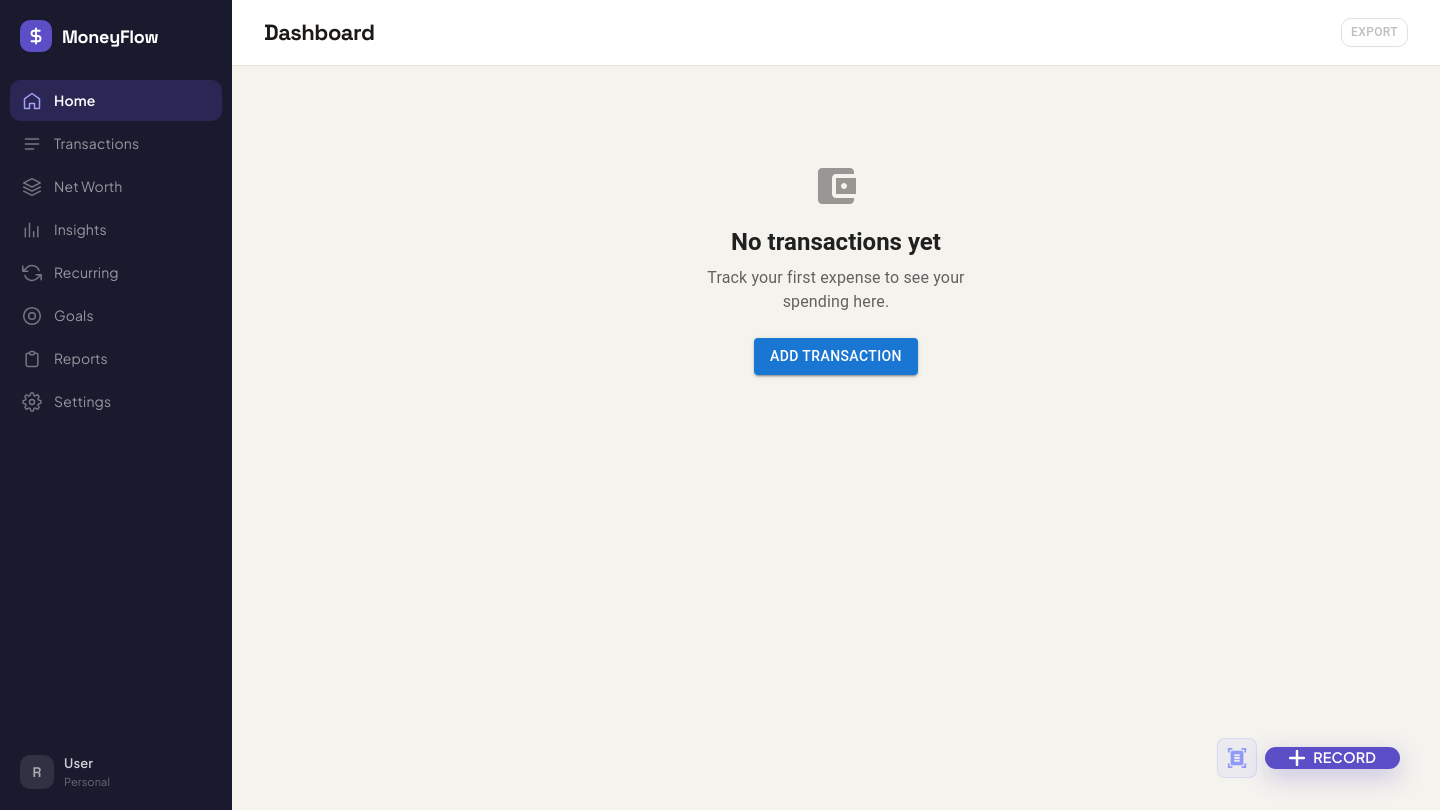
Empty state on Home tab › empty state button opens AddTransactionSheet
Expected: the heading "No transactions yet" is shown, [731,226,941,258]
Click the button "Add transaction" at [836, 356], box [754,338,918,374]
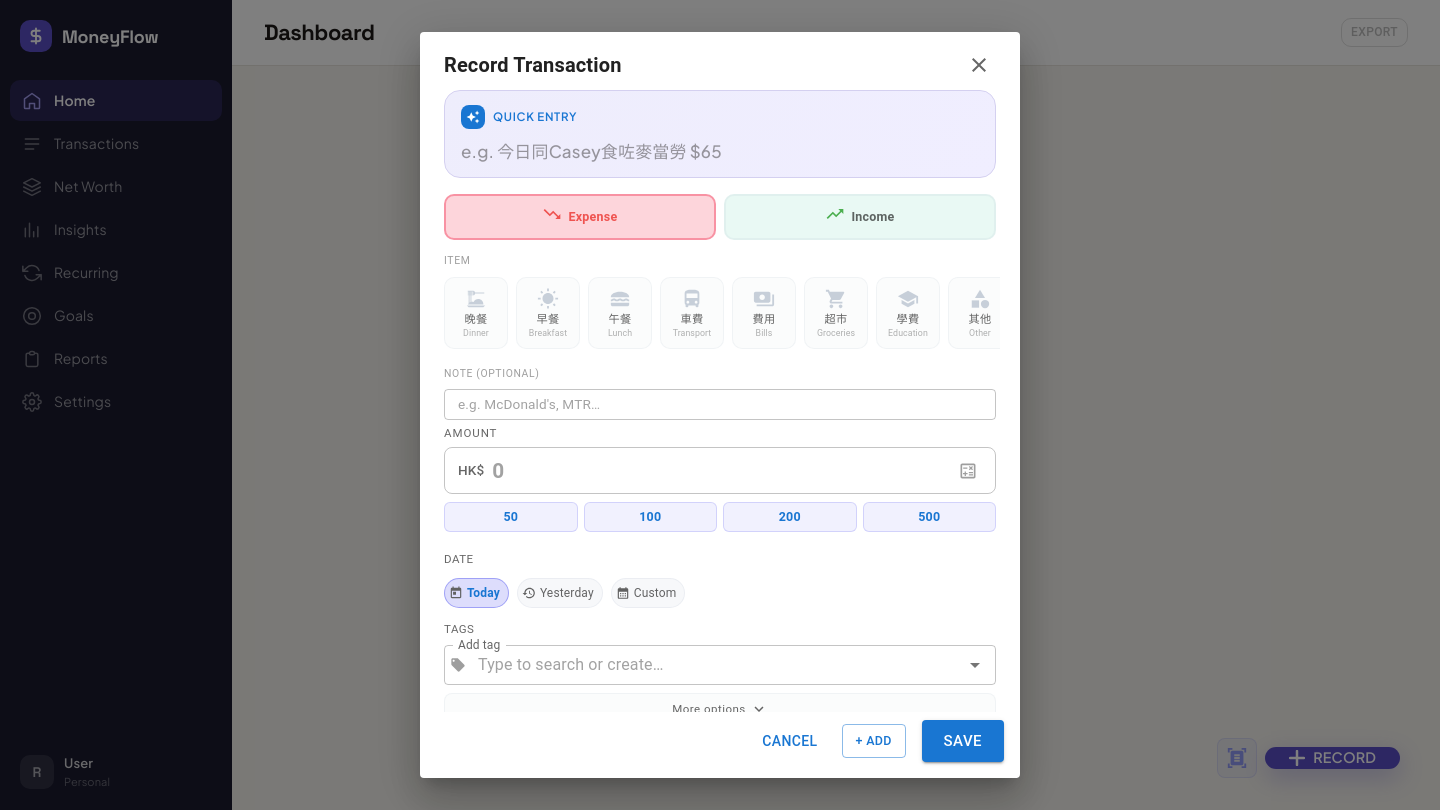
Result: the heading "Record Transaction" is shown at [444,49,622,81]
